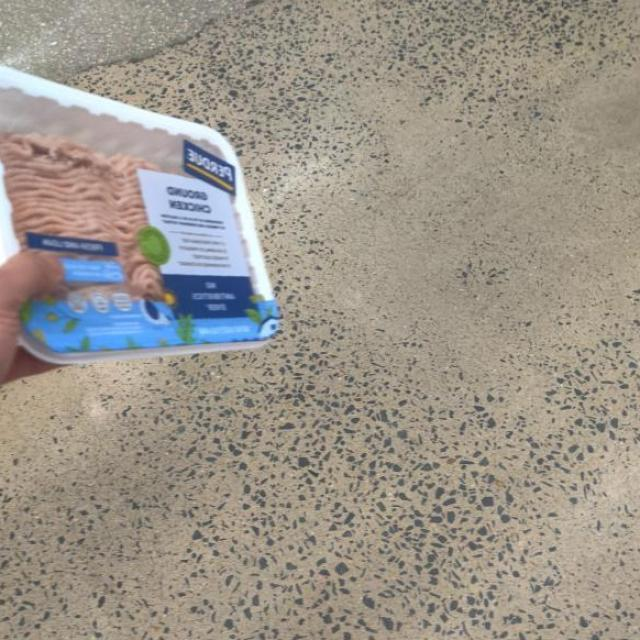Meat: (0, 113, 278, 371)
